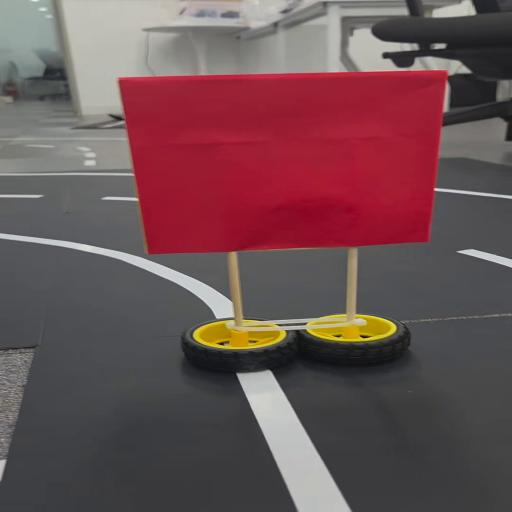Sign_A: (111, 73, 458, 369)
